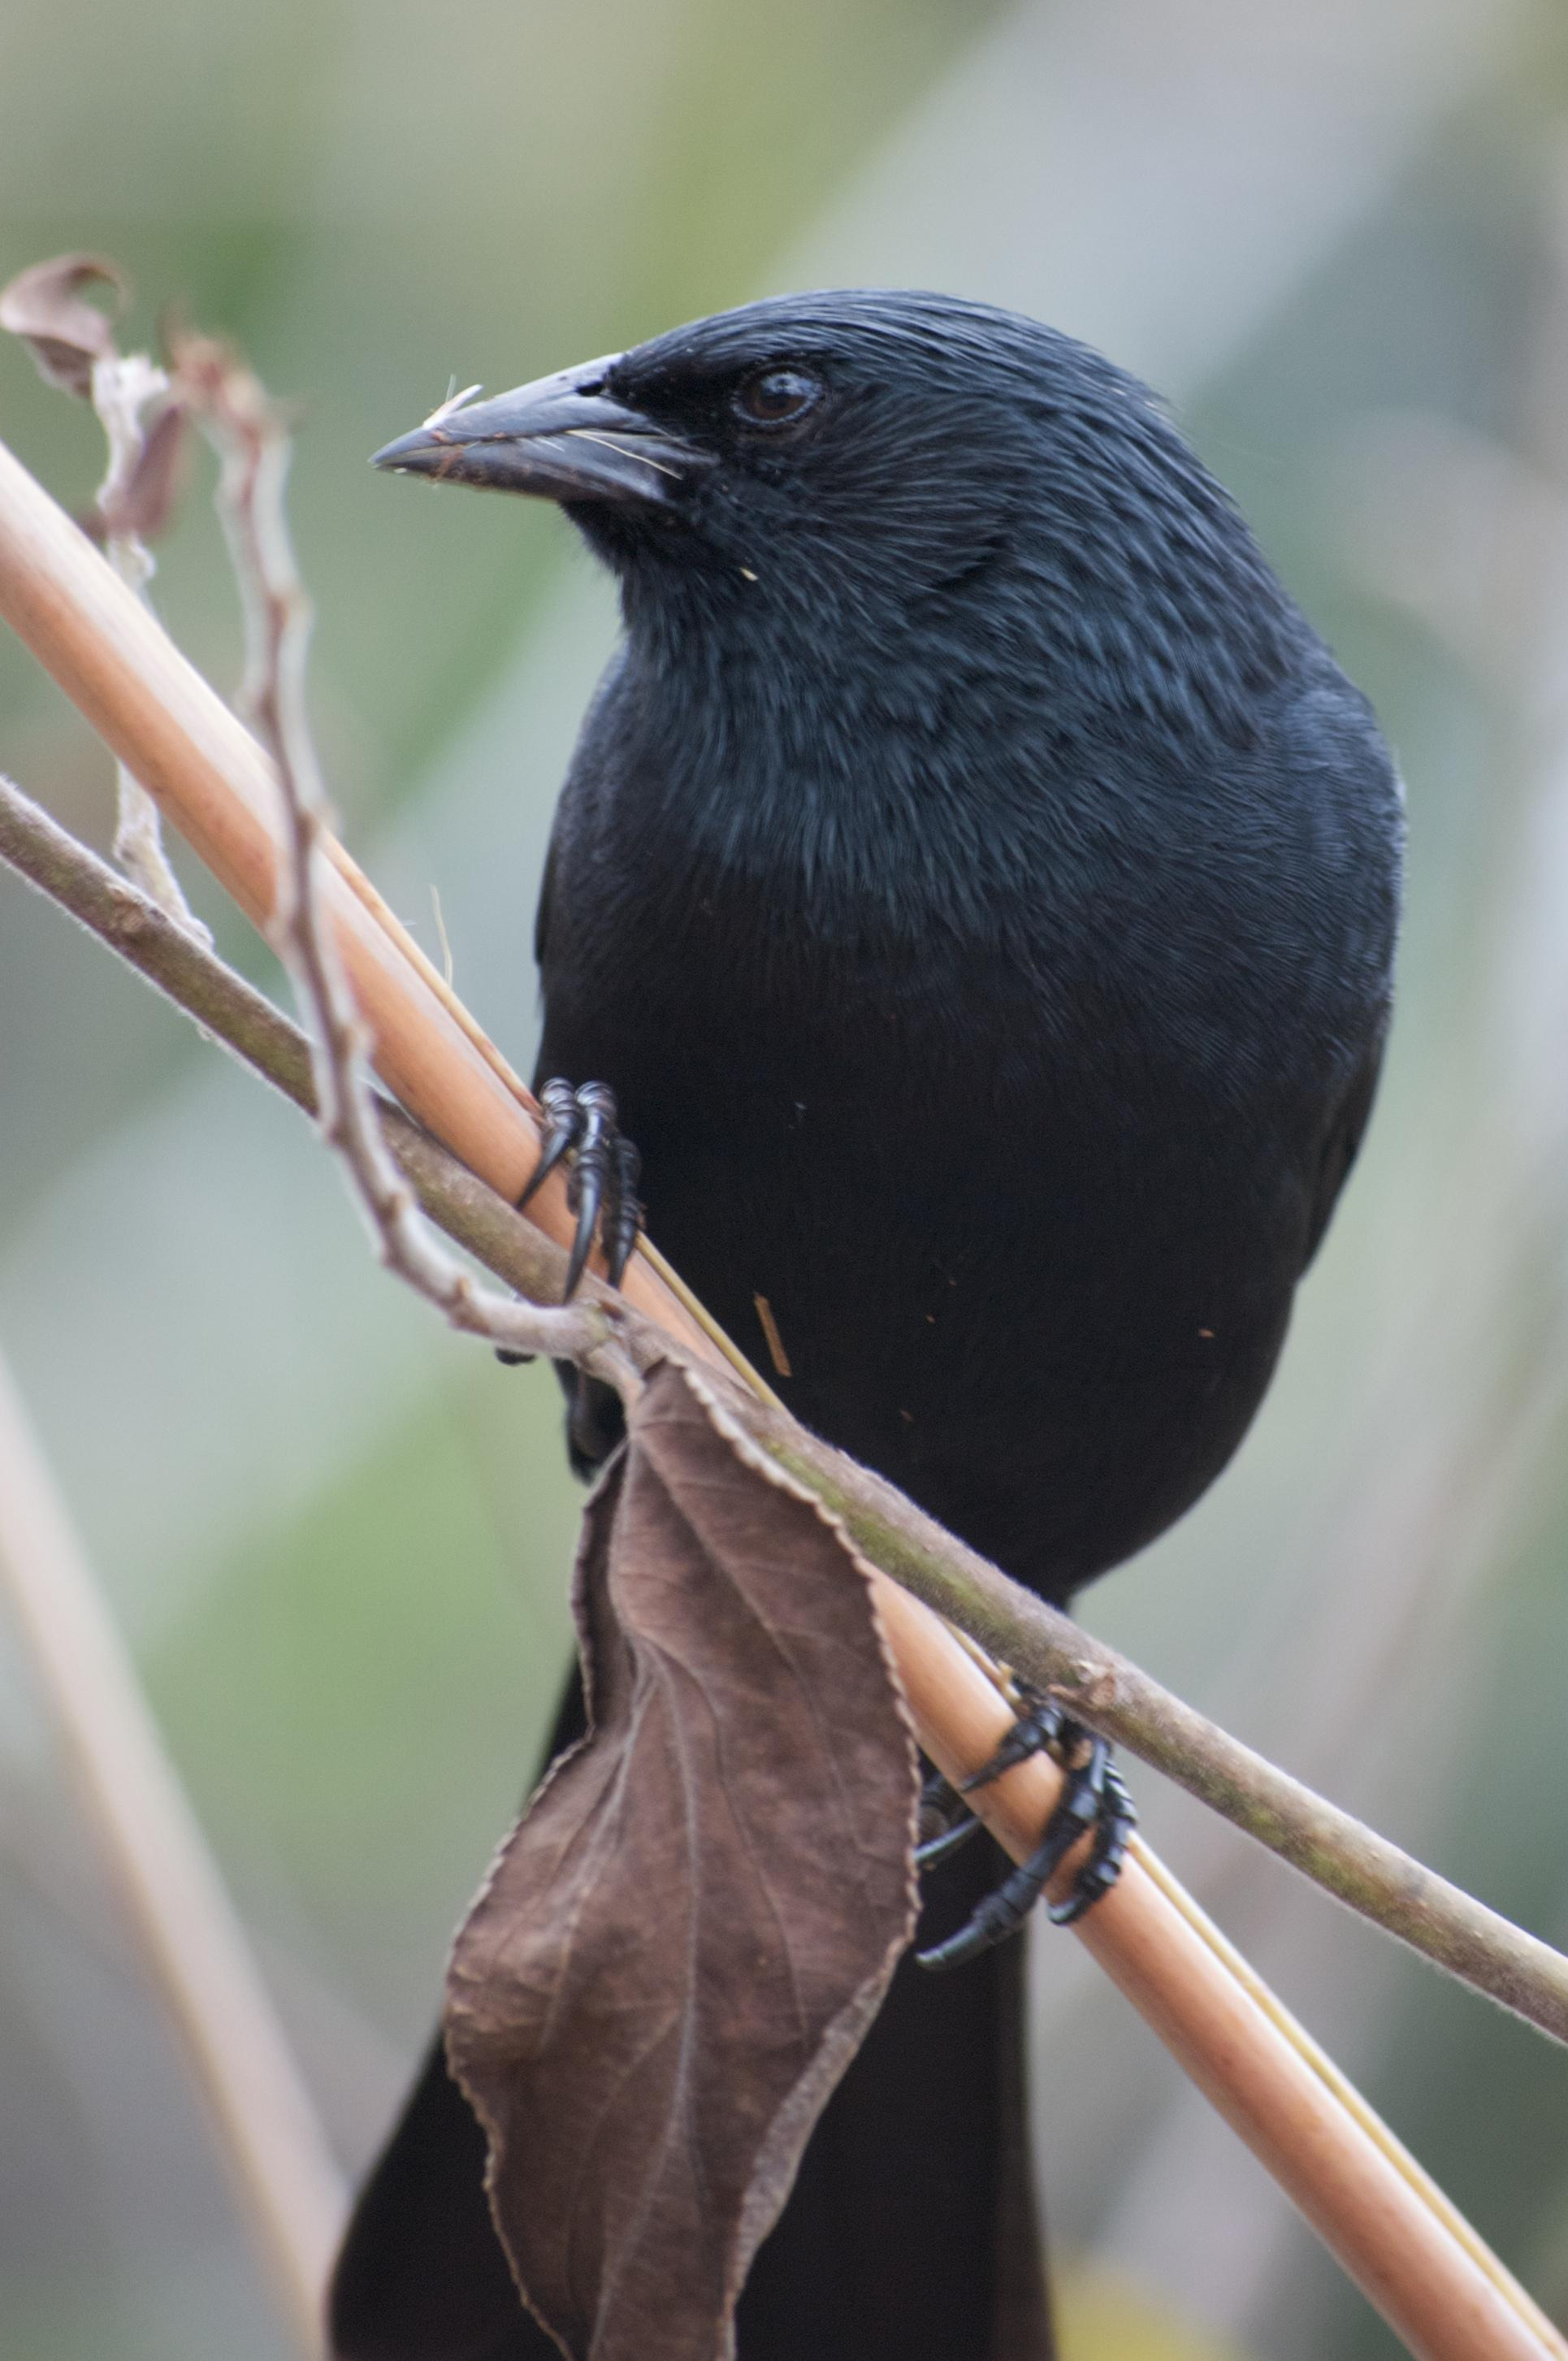grauna: (367, 271, 1410, 2361)
